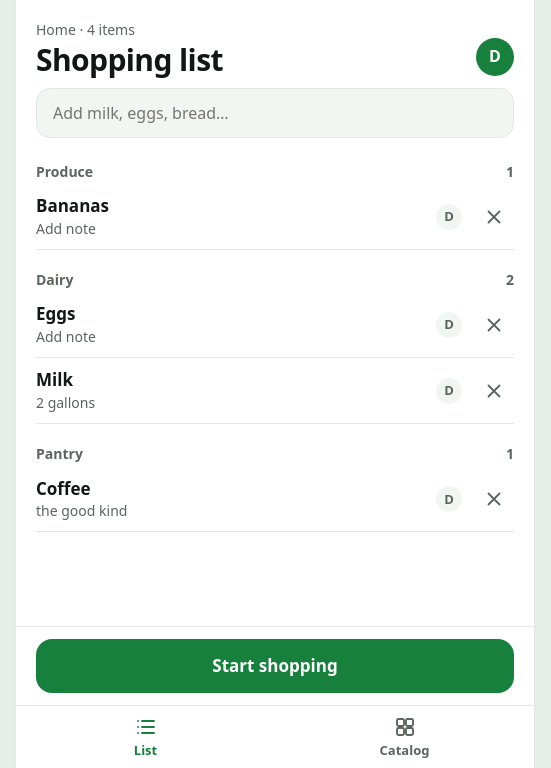
it: catalog › puts items on the list and takes them off
Earlier steps of the test are not shown.
Check: the heading "Shopping list" is shown, box x1=36 y1=44 x2=223 y2=76
Click the button "Catalog" at [404, 737], box x1=275 y1=706 x2=534 y2=767
(page scrolled)
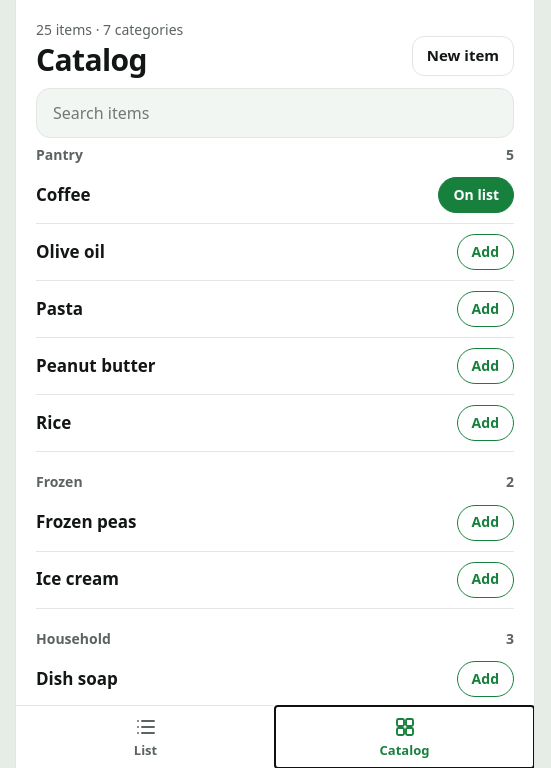
Click the button with aria-label "Add Rice" at [485, 423], box x1=457 y1=405 x2=514 y2=441
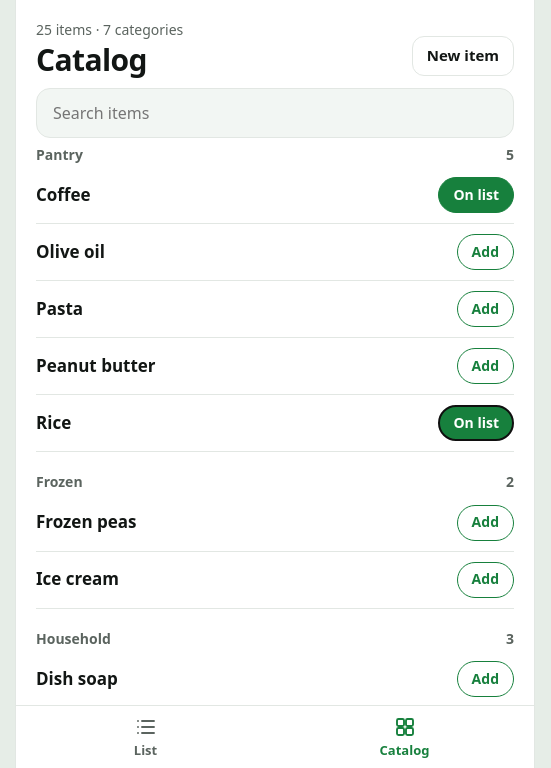
Check: the button with aria-label "Rice is on the list" is pressed, box x1=438 y1=405 x2=514 y2=441
Click the button "List" at [146, 737], box x1=16 y1=706 x2=275 y2=767
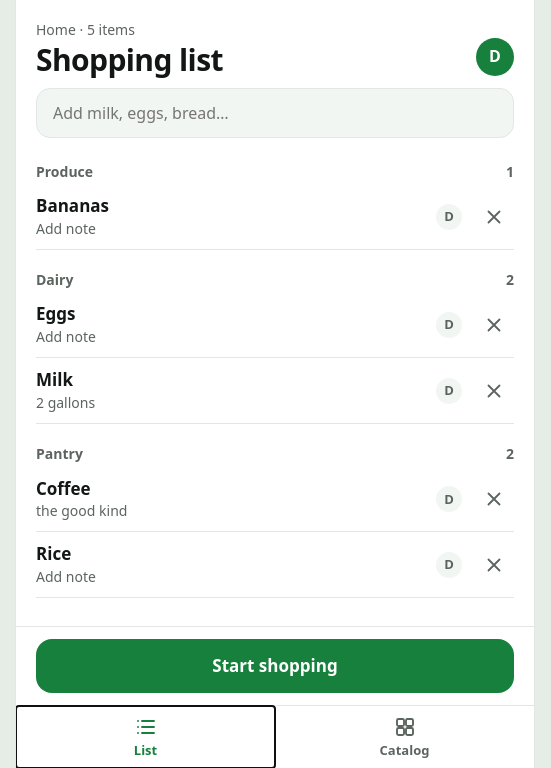
Check: the text "Rice" is shown, box x1=36 y1=542 x2=71 y2=567
Click the button "Catalog" at [404, 737], box x1=275 y1=706 x2=534 y2=767
(page scrolled)
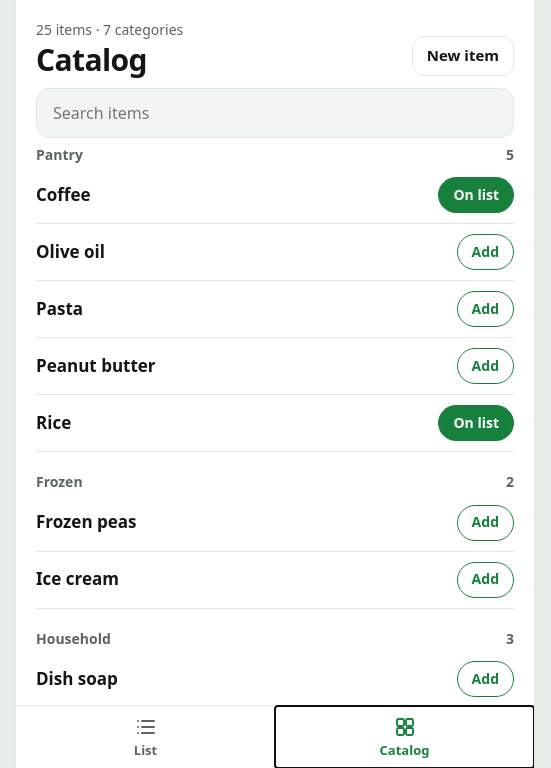
Click the button with aria-label "Rice is on the list" at [476, 423], box x1=438 y1=405 x2=514 y2=441
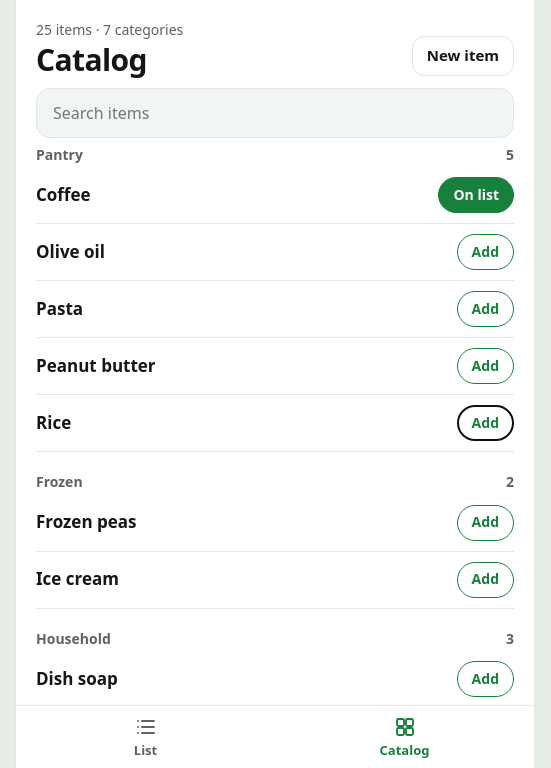
Click the button "List" at [146, 737], box x1=16 y1=706 x2=275 y2=767
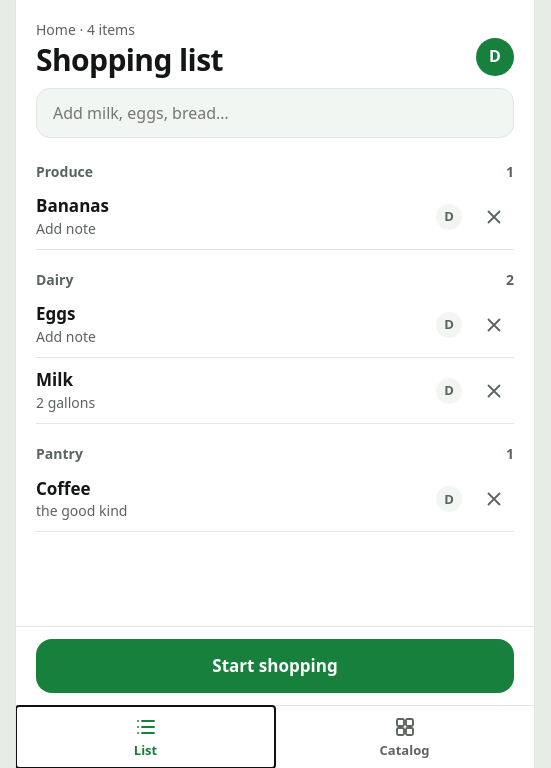
Check: the button "Rice" is gone
